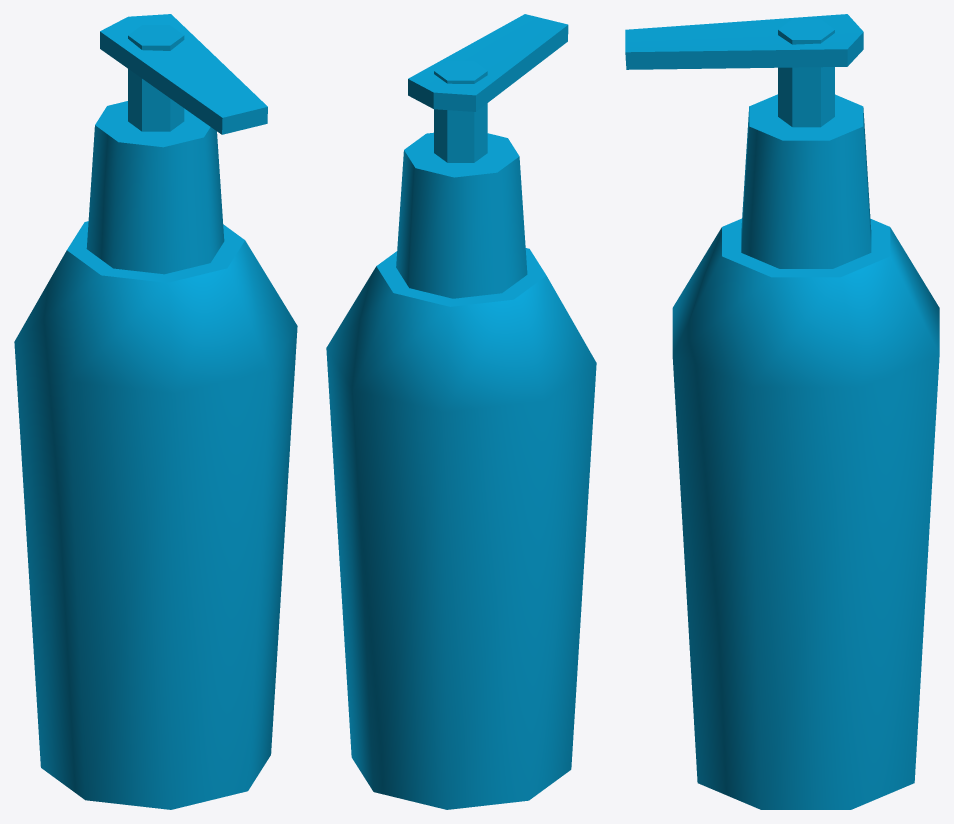
File: Flacon_02_Lod1.fbx
3 renders of one model, left to right at view 1: azimuth 30°, elevation 25°; view 2: azimuth 150°, elevation 25°; view 3: azimuth 270°, elevation 25°, orthographic. The views are drawn at different scales.
Parts seen in each view (by area): view 1: Flacon_02_Lod1; view 2: Flacon_02_Lod1; view 3: Flacon_02_Lod1.
Boxes of the visible parts, x1=… form: Flacon_02_Lod1: x1=14, y1=14, x2=297, y2=809; Flacon_02_Lod1: x1=326, y1=14, x2=596, y2=809; Flacon_02_Lod1: x1=625, y1=14, x2=939, y2=809.
Size of the model in its own units: 6.06 by 18.4 by 7.13.
